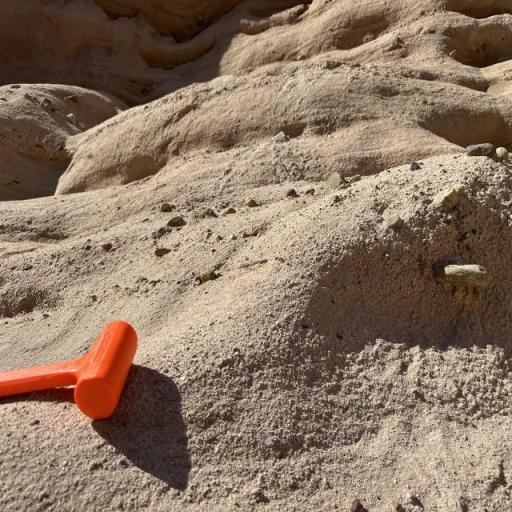mallet: (0, 319, 138, 419)
